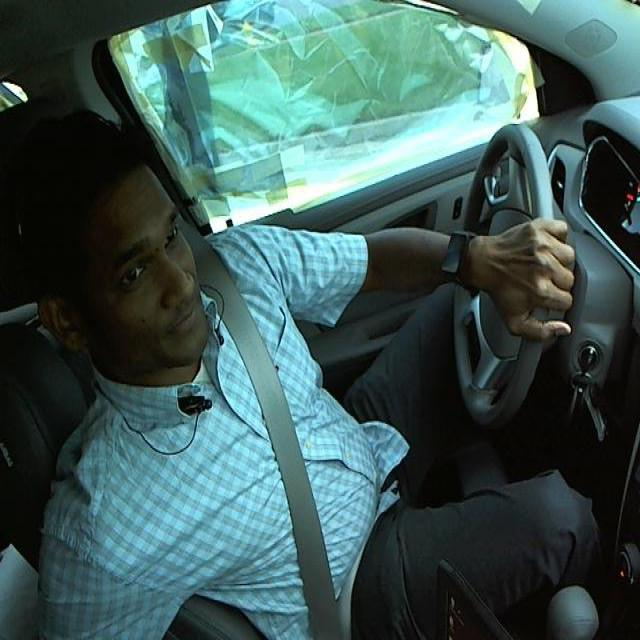seatbelt: (222, 288, 382, 639)
